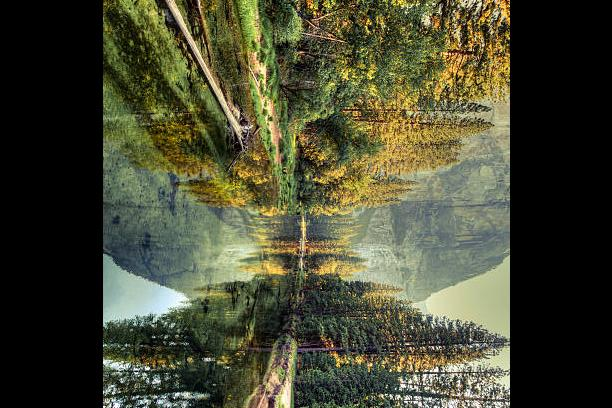Non_Gorille: (117, 0, 503, 408)
